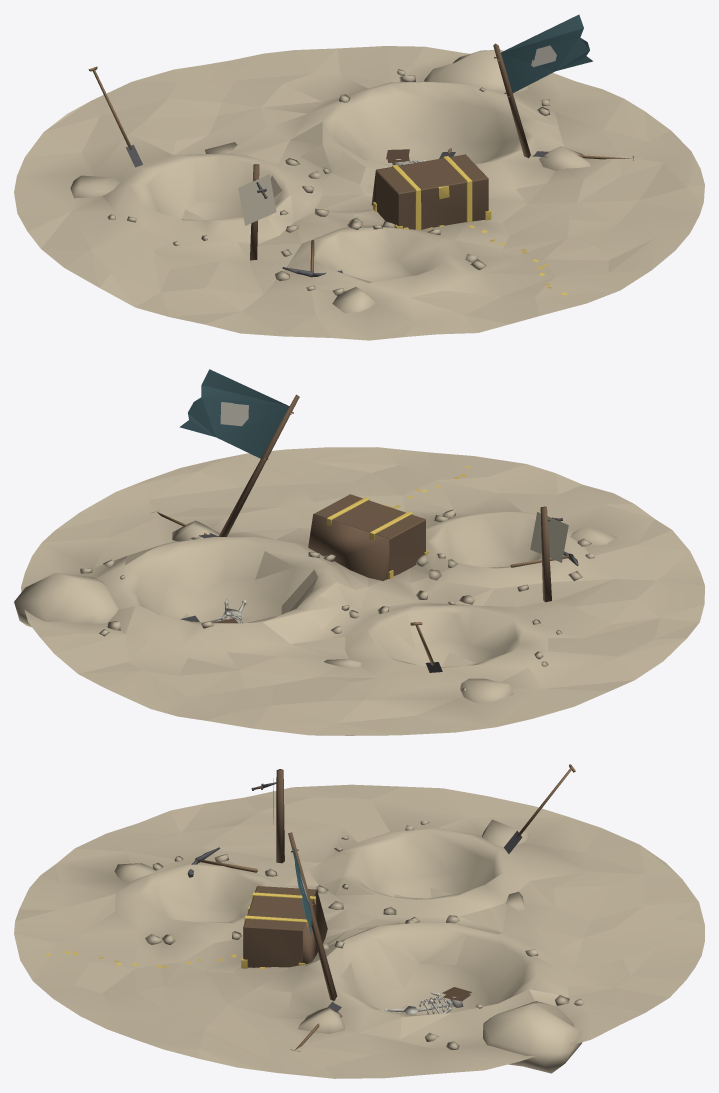
Rendered from dig_site_far.glb.
3 renders of one model, top to bottom at view 1: azimuth 30°, elevation 25°; view 2: azimuth 150°, elevation 25°; view 3: azimuth 270°, elevation 25°, orthographic.
Visible parts, largest first — view 1: dig_site; view 2: dig_site; view 3: dig_site.
Part boxes in pixels (<box>): dig_site: <box>14,14,704,340</box>; dig_site: <box>14,369,704,735</box>; dig_site: <box>14,764,704,1078</box>.
Size of the model in its own units: 10 by 3.1 by 10.
